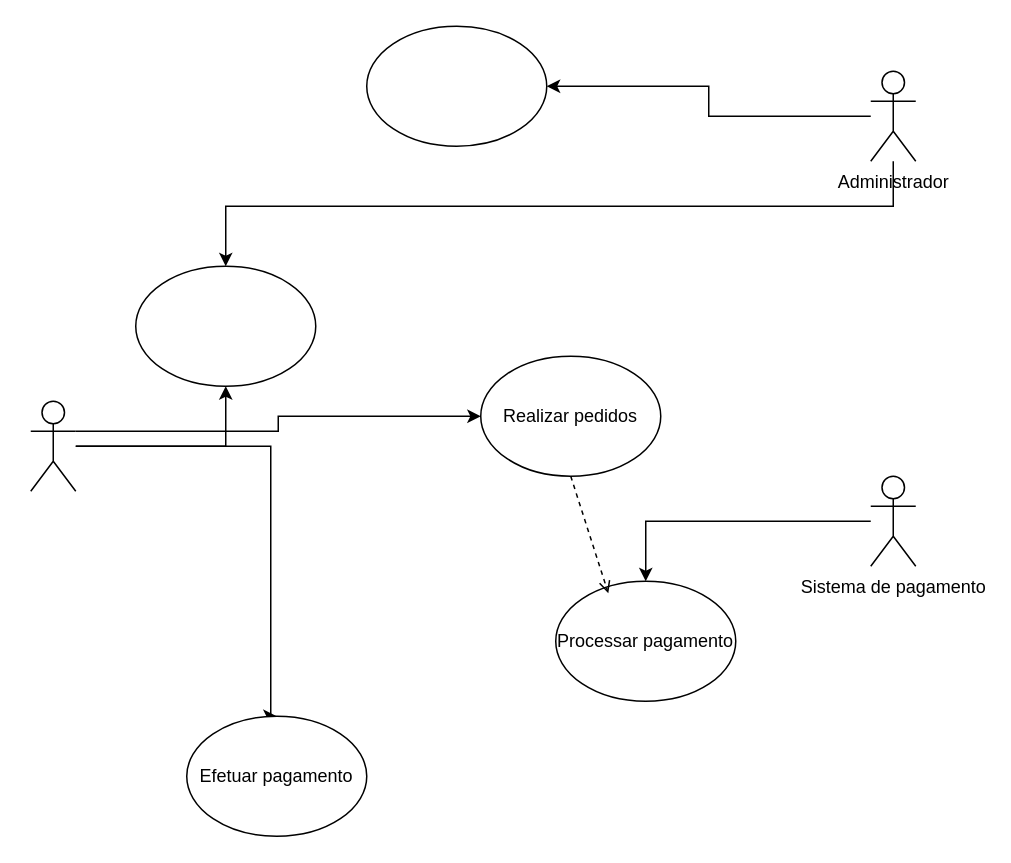
This 1011x863 diagram has some shape labels left out. The shapes that lost their labels are listed below. From the top down, each one's centre as x and y in pixels, then its label:
[456,85]: Cadastrar produtos
[225,325]: Consultar histórico de compra
[52,445]: Cliente
